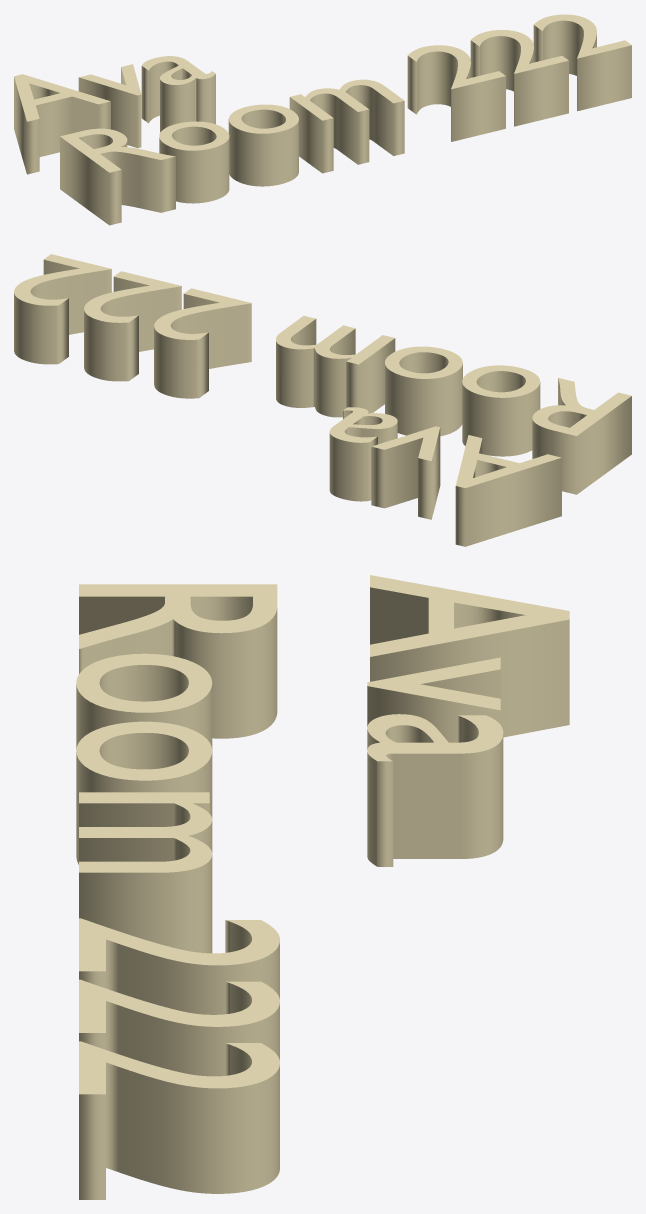
File: ava-222.gltf
The picture shows the model from 3 angles, top to bottom: view 1: azimuth 30°, elevation 25°; view 2: azimuth 150°, elevation 25°; view 3: azimuth 270°, elevation 25°; orthographic projection. The views are drawn at different scales.
Visible parts, largest first — view 1: Text; view 2: Text; view 3: Text.
Part boxes in pixels (bbox=[...]): Text: bbox=[14, 14, 631, 225]; Text: bbox=[14, 254, 631, 546]; Text: bbox=[76, 575, 569, 1199].
Size of the model in its own units: 4.22 by 0.4 by 1.69.
